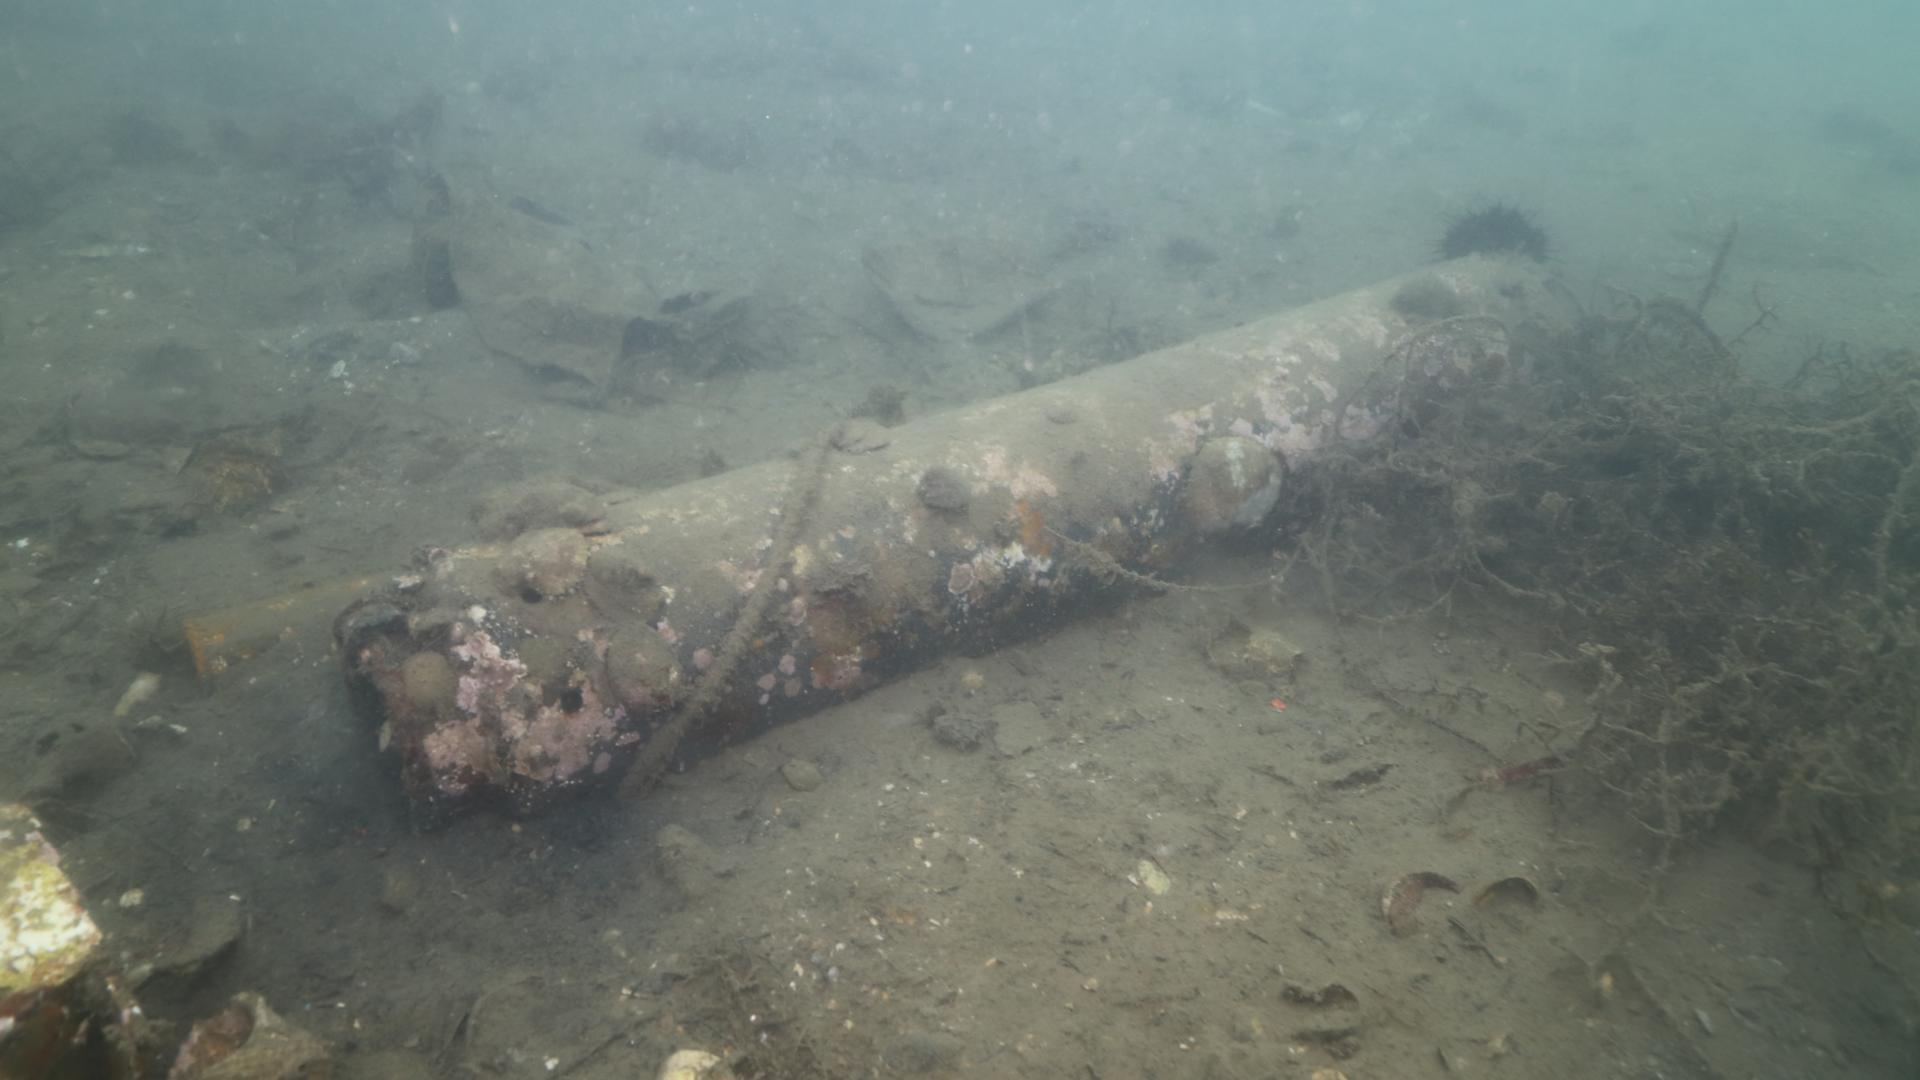eel fish trap: (338, 251, 1578, 820)
rope: (622, 430, 847, 802)
